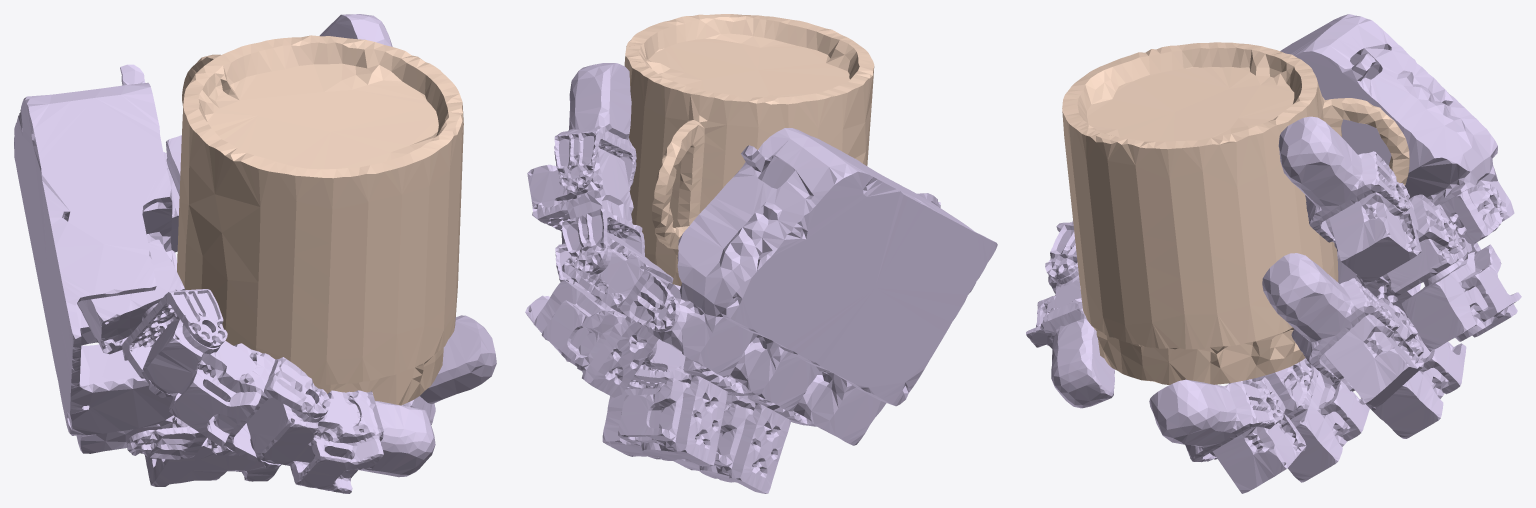
File: 814afe597f3f5a-closed.glb
3 views of the same model, side by side, from view 1: azimuth 30°, elevation 25°; view 2: azimuth 150°, elevation 25°; view 3: azimuth 270°, elevation 25° (orthographic). The views are drawn at different scales.
Visible parts, largest first — view 1: world, LEAP_hand; view 2: LEAP_hand, world; view 3: LEAP_hand, world.
Part boxes in pixels (x1,y1,x2,y2): world: (177,35,463,405); LEAP_hand: (14,14,496,493); LEAP_hand: (525,63,997,493); world: (624,14,874,286); LEAP_hand: (1026,14,1521,493); world: (1062,42,1409,384).
Size of the model in its own units: 0.1828 by 0.1786 by 0.1988.
